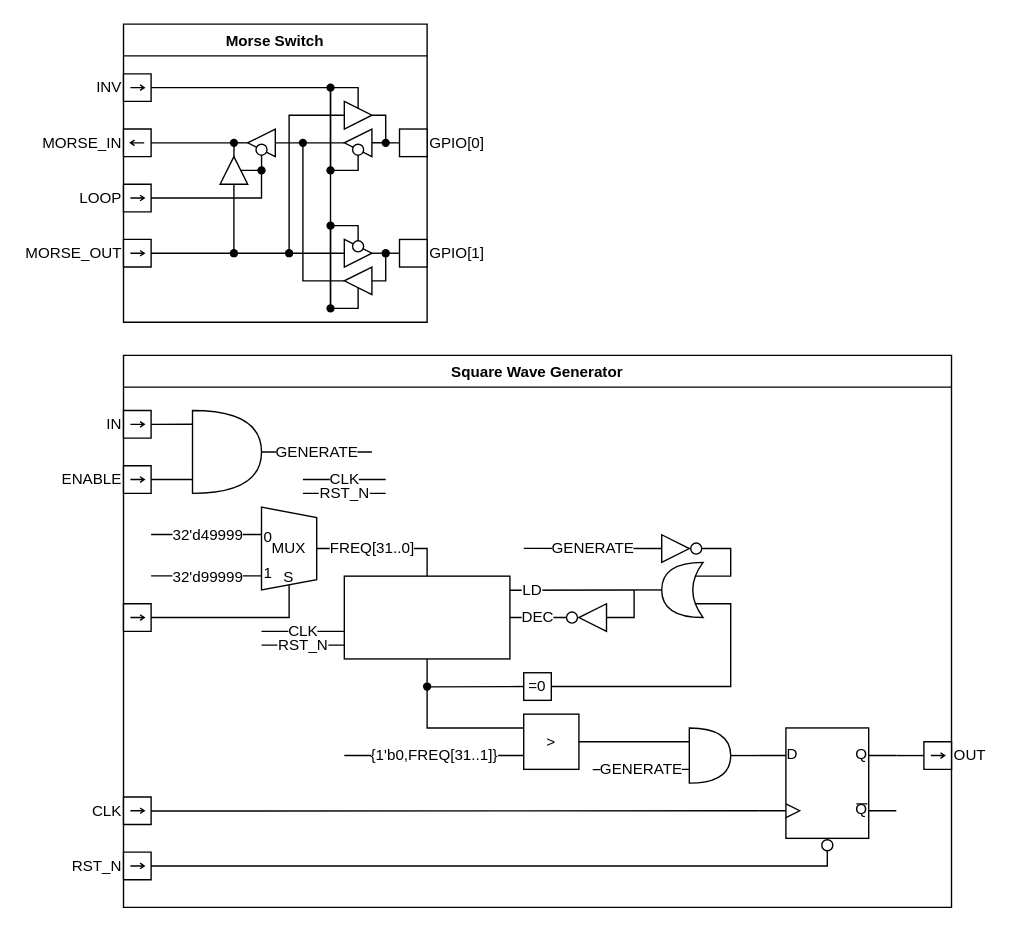
The diagram is 1009 pixels wide and 932 high, and some of its shapes have lost their labels. The centre of each missing label's shape, as x and y in pixels:
FREQ_SEL: the point at 136,616
REG 32 (behavioral): the point at 426,617
